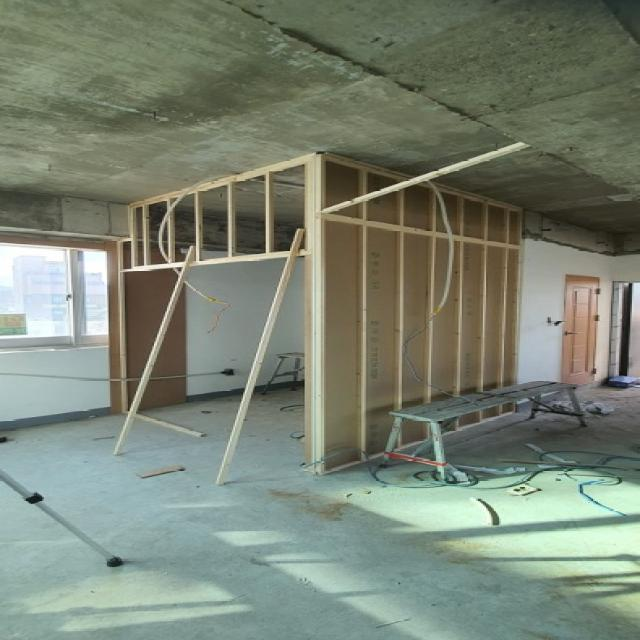stud: (318, 153, 524, 474), (130, 154, 316, 270)
wood: (215, 228, 305, 485), (113, 246, 195, 454), (320, 142, 532, 214)
